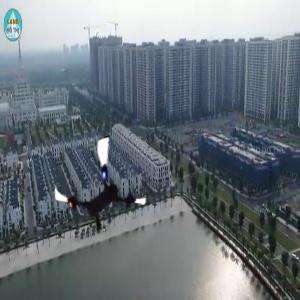drone: (51, 136, 155, 240)
